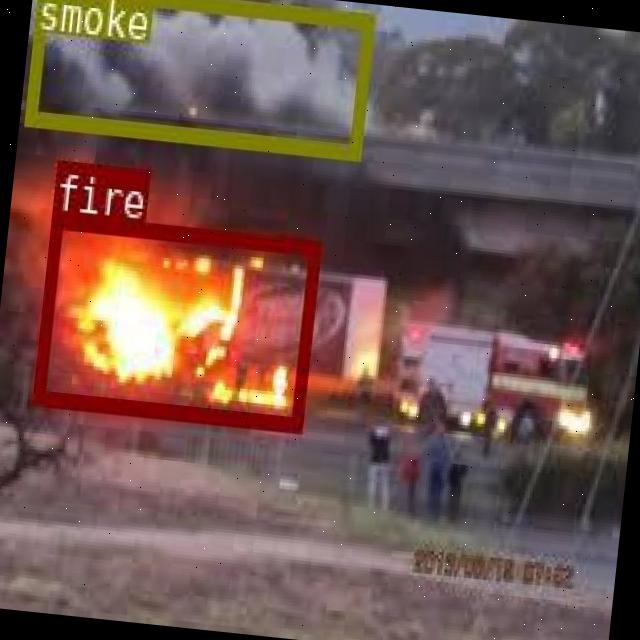fire: (31, 212, 320, 430)
smoke: (22, 0, 372, 155)
